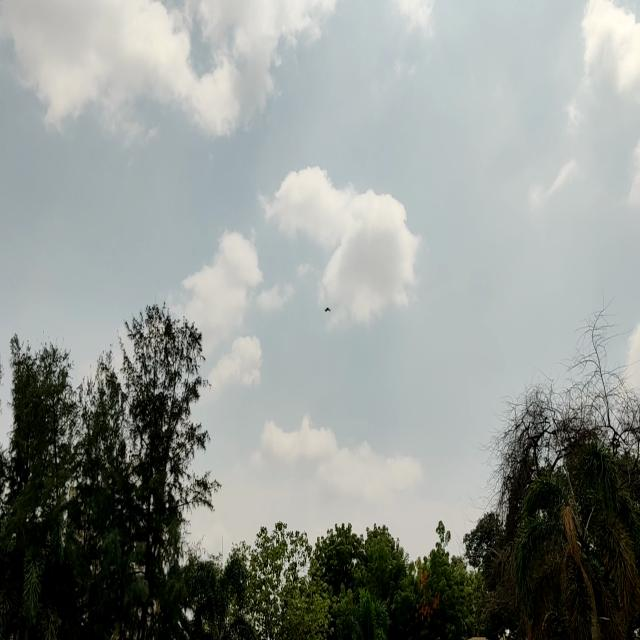drone: (318, 300, 336, 318)
